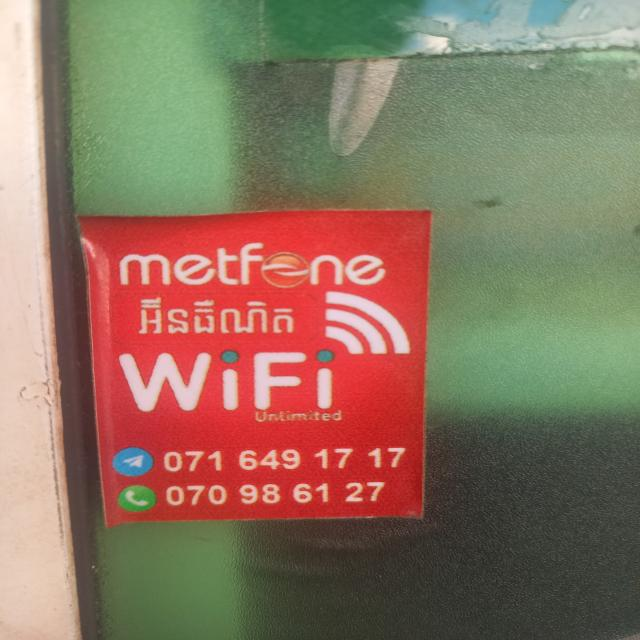Yolov11kh: (133, 297, 305, 337), (161, 446, 408, 473), (164, 481, 390, 507)
